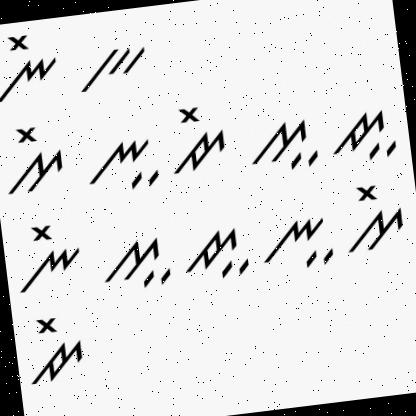jah: (324, 96, 400, 167), (176, 220, 252, 287)
jo: (18, 310, 92, 390), (160, 94, 230, 178)
nyah: (82, 122, 164, 202), (257, 209, 340, 276)
nyo: (5, 214, 86, 296), (0, 27, 62, 107)
sah: (242, 108, 322, 176), (98, 228, 176, 295)
so: (0, 113, 73, 200), (338, 177, 408, 254)
